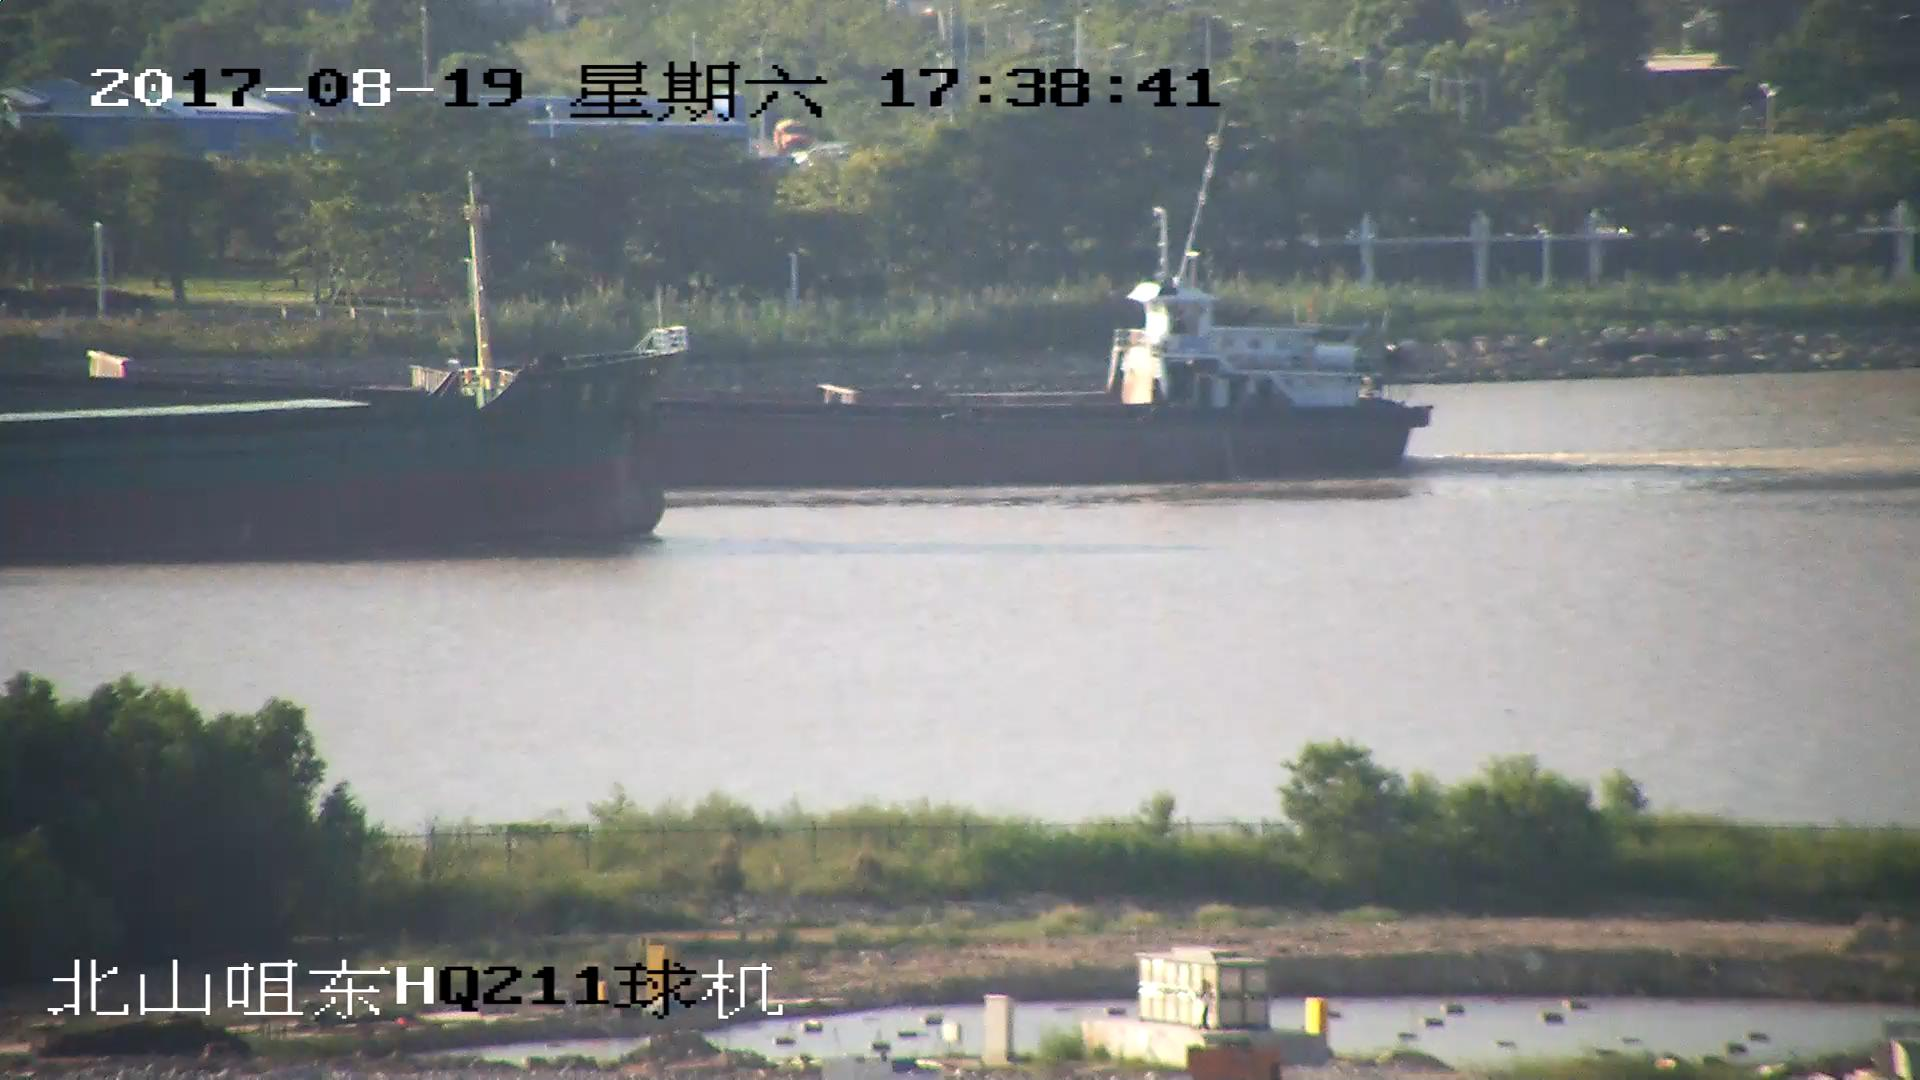general cargo ship: (674, 281, 1425, 485), (1, 329, 674, 543)
